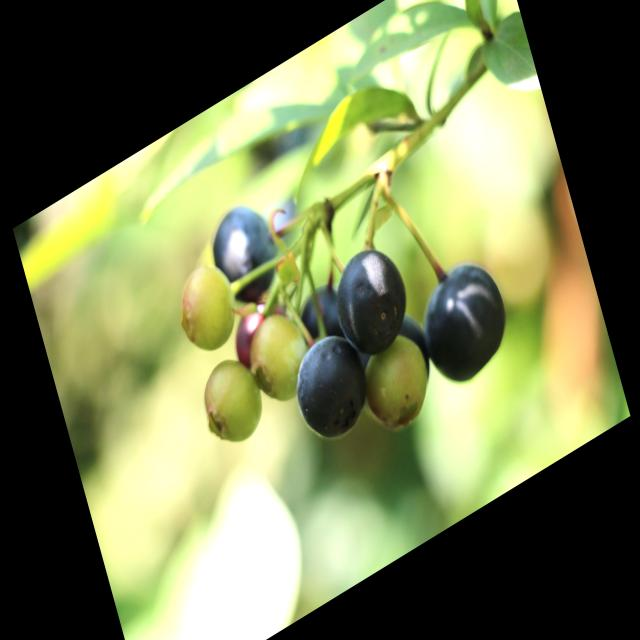blueberry: (414, 246, 516, 394), (327, 234, 415, 367), (286, 321, 373, 455), (204, 190, 285, 315), (230, 291, 298, 388), (296, 274, 359, 374), (384, 305, 434, 395)
blueberry-unripe: (355, 323, 438, 440), (194, 343, 271, 459), (244, 303, 316, 413), (172, 253, 242, 360)
